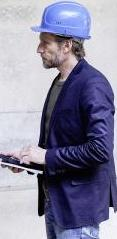hard-hat: (0, 6, 27, 42)
